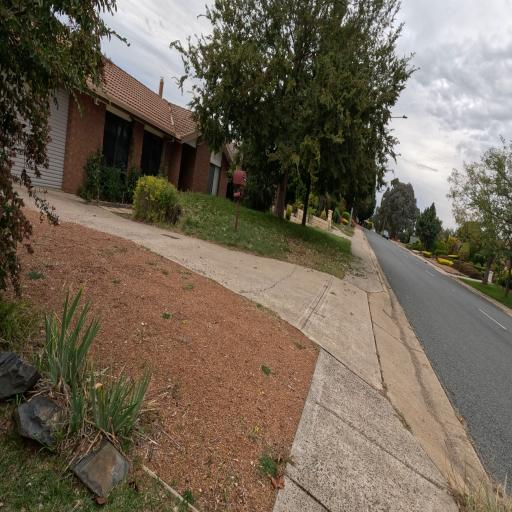kerb_cut: (324, 281, 459, 418)
